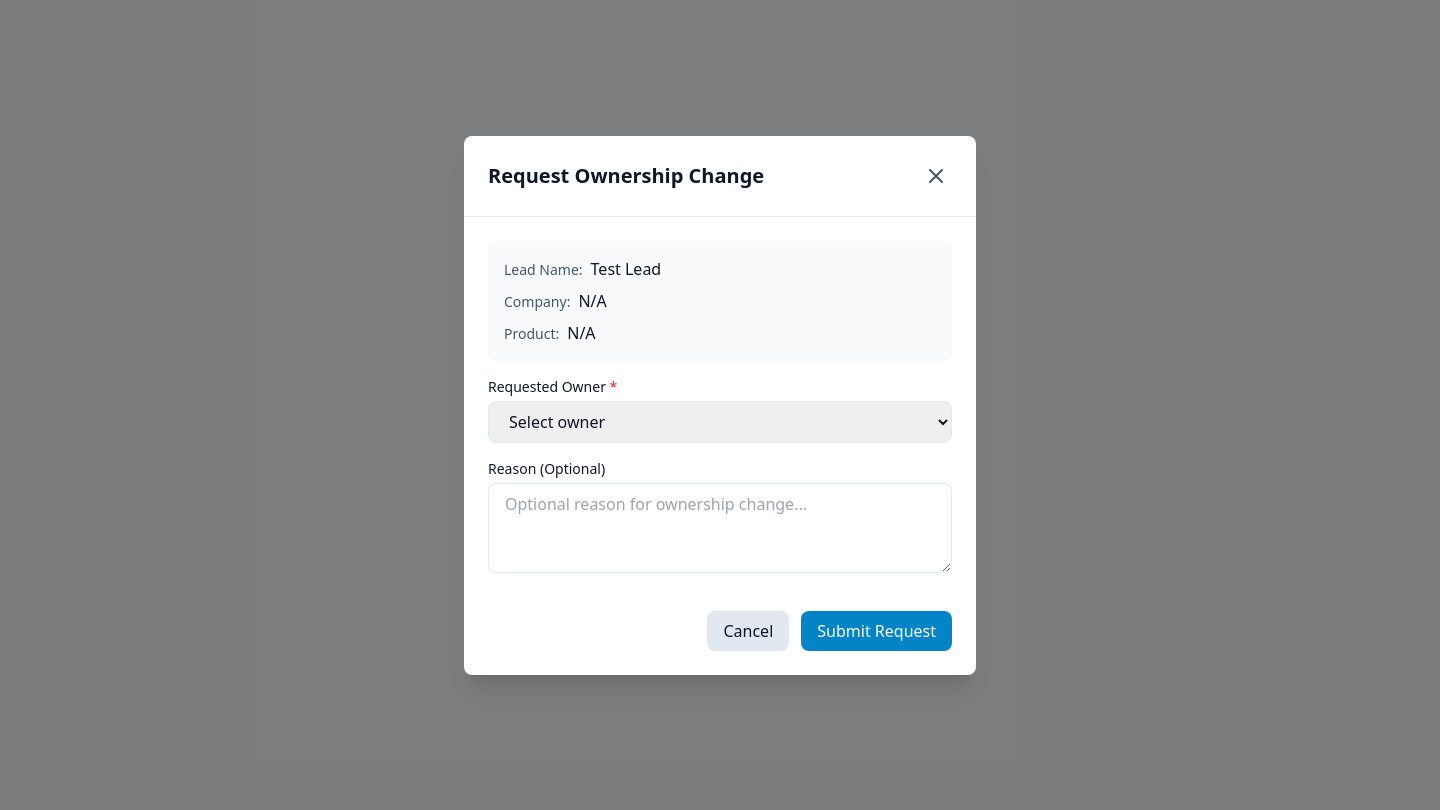
Test: RequestOwnershipModal › Validation › shows error when submitting without owner
Step 1. Click the button "Submit Request" → [877, 630], box 801,610 -> 952,650
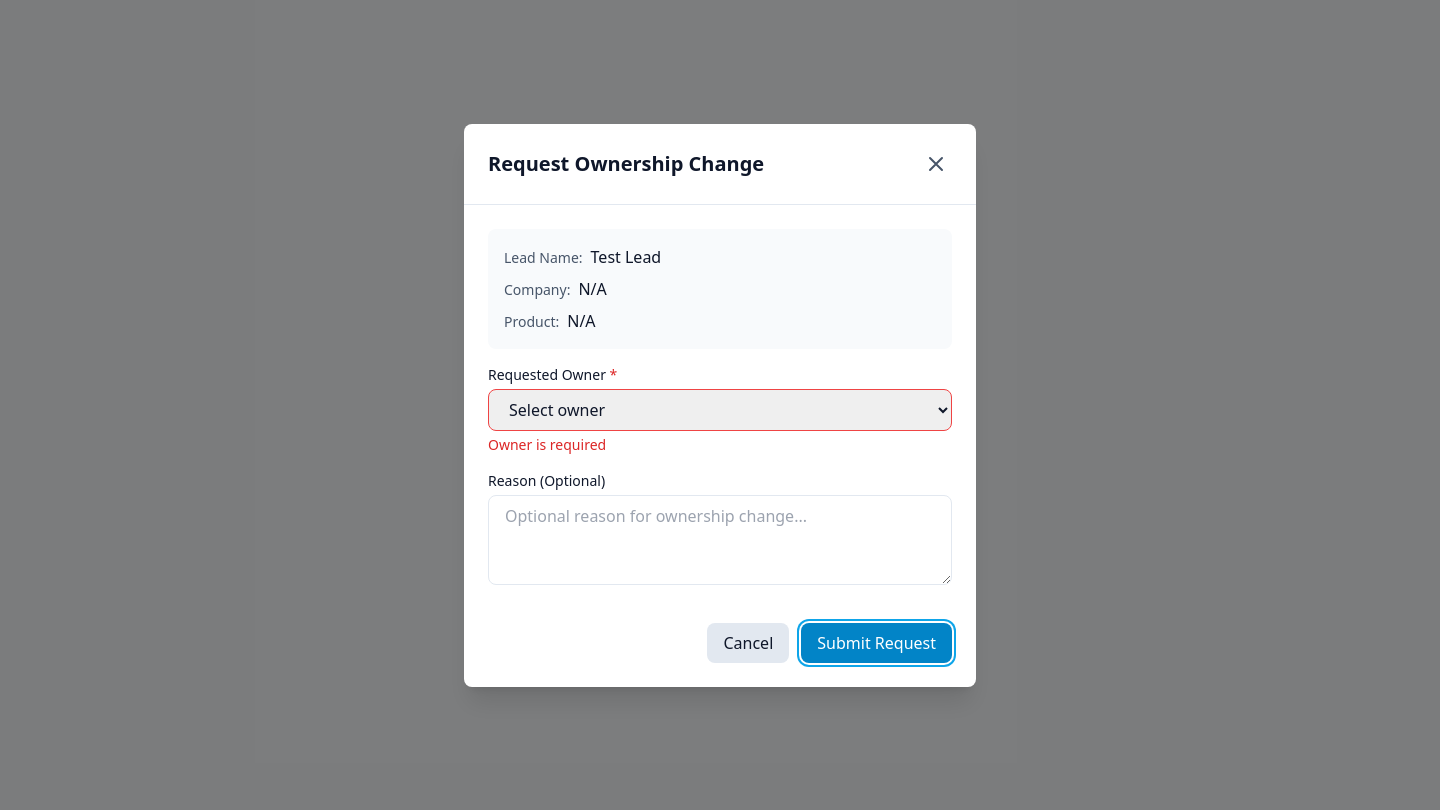
Expected: the text "Owner is required" is shown, 488,434 -> 606,454
